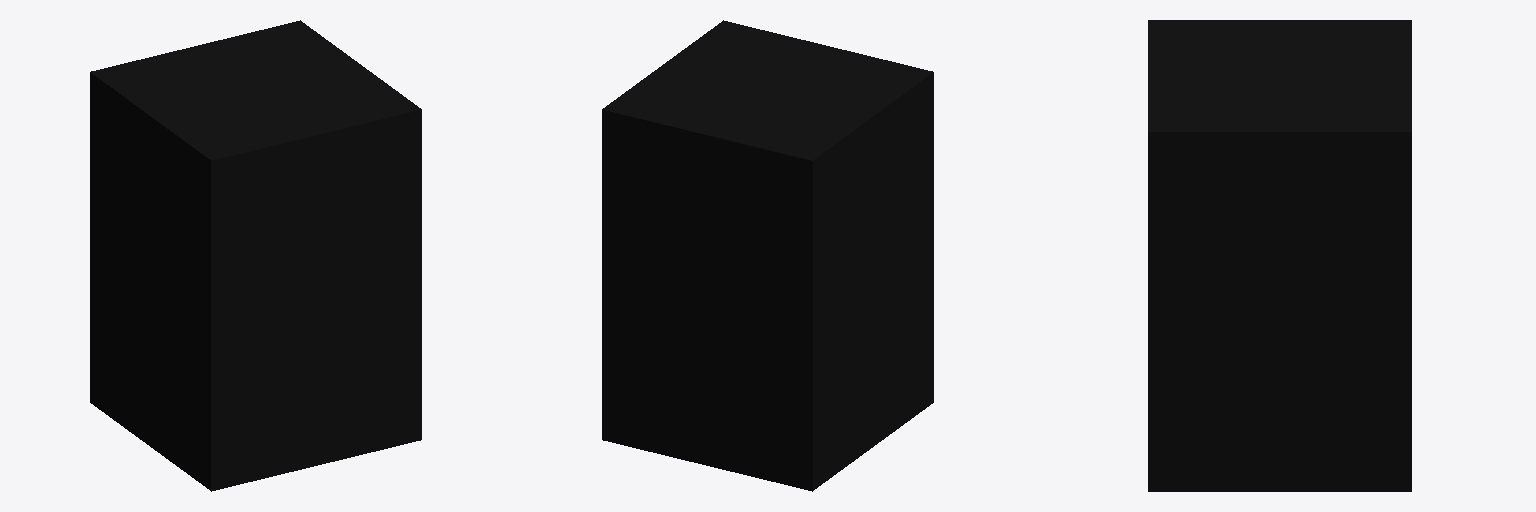
URDF robot description (coffee_maker):
<?xml version="1.0"?>
<robot name="coffee_maker">

  <!-- Materials -->
  <material name="black">
    <color rgba="0.1 0.1 0.1 1"/>
  </material>
  <material name="glass">
    <color rgba="0.5 0.5 0.5 0.5"/>
  </material>

  <!-- Base/Body Link -->
  <link name="base_link">
    <visual>
      <geometry>
        <box size="0.2 0.2 0.3"/>
      </geometry>
      <material name="black"/>
    </visual>
    <collision>
      <geometry>
        <box size="0.2 0.2 0.3"/>
      </geometry>
    </collision>
    <inertial>
      <mass value="2.0"/>
      <inertia ixx="0.01" ixy="0.0" ixz="0.0" iyy="0.01" iyz="0.0" izz="0.01"/>
    </inertial>
  </link>

  <!-- Carafe Link -->
  <link name="carafe_link">
    <visual>
      <geometry>
        <cylinder length="0.15" radius="0.05"/>
      </geometry>
      <material name="glass"/>
    </visual>
    <collision>
      <geometry>
        <cylinder length="0.15" radius="0.05"/>
      </geometry>
    </collision>
    <inertial>
      <mass value="0.5"/>
      <inertia ixx="0.001" ixy="0.0" ixz="0.0" iyy="0.001" iyz="0.0" izz="0.001"/>
    </inertial>
  </link>

  <!-- Joint connecting base to carafe -->
  <joint name="base_to_carafe" type="fixed">
    <parent link="base_link"/>
    <child link="carafe_link"/>
    <origin xyz="0.05 0 -0.075" rpy="0 0 0"/>
  </joint>

</robot>

--- What the picture shows (computed from the rendered views, not written in the file) ---
The picture shows the robot from 3 angles, left to right: view 1: azimuth 30°, elevation 25°; view 2: azimuth 150°, elevation 25°; view 3: azimuth 270°, elevation 25°; orthographic projection.
Robot: coffee_maker — 2 links, 1 joints (1 fixed); root link base_link; default pose: all joints at 0.
Links seen in each view (by area): view 1: base_link; view 2: base_link; view 3: base_link.
Link boxes in pixels (x1,y1,x2,y2): base_link: (90,20,421,491); base_link: (602,20,933,491); base_link: (1148,20,1411,491).
Size in the robot's own frame: 0.2 by 0.2 by 0.3 metres.
Geometry: primitives only (box / cylinder / sphere), no mesh files.